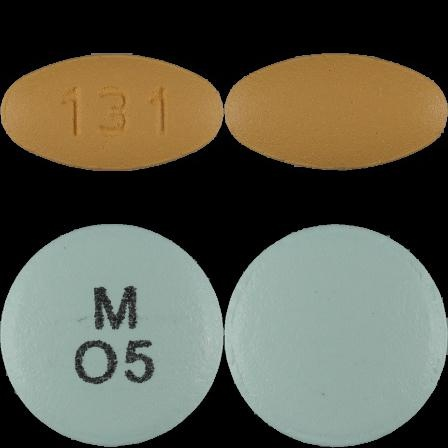54868-5738: (0, 0, 224, 224)
